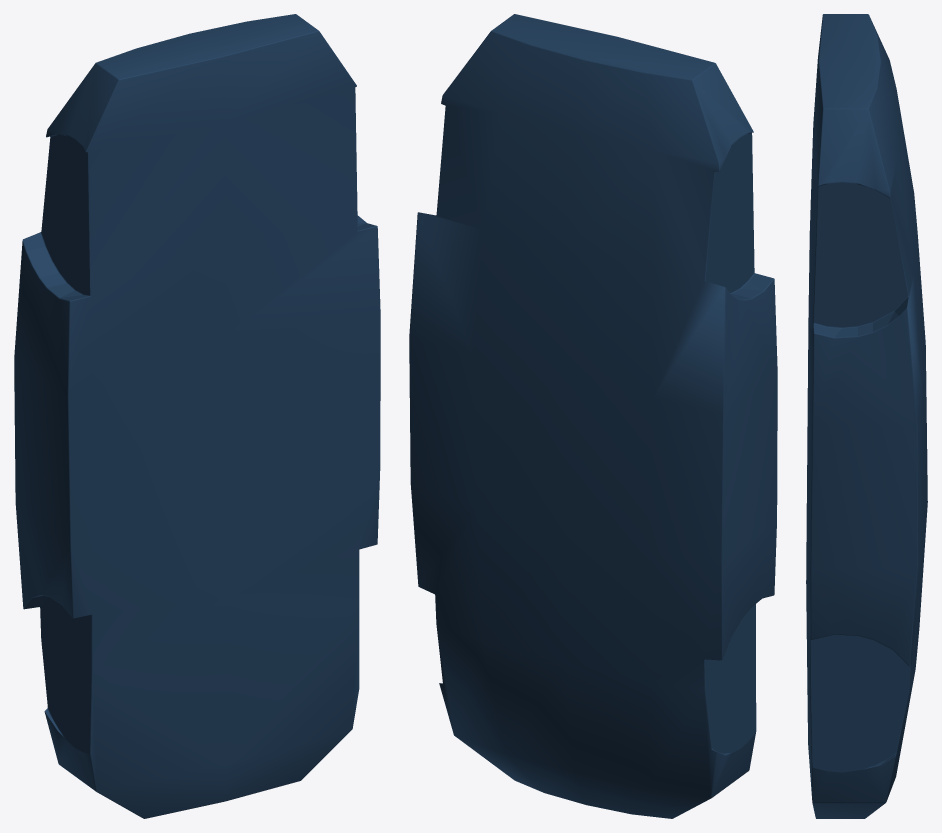
Rendered from MarshNsx_LOD1.fbx.
3 views of the same model, side by side, from view 1: azimuth 30°, elevation 25°; view 2: azimuth 150°, elevation 25°; view 3: azimuth 270°, elevation 25° (orthographic). The views are drawn at different scales.
Parts seen in each view (by area): view 1: Marsh_BODY_SHELL_LOD1; view 2: Marsh_BODY_SHELL_LOD1; view 3: Marsh_BODY_SHELL_LOD1.
Part boxes in pixels (x1,y1,x2,y2): Marsh_BODY_SHELL_LOD1: [14, 14, 380, 818]; Marsh_BODY_SHELL_LOD1: [409, 14, 777, 818]; Marsh_BODY_SHELL_LOD1: [806, 14, 927, 818].
Size of the model in its own units: 200 by 453 by 69.32.
